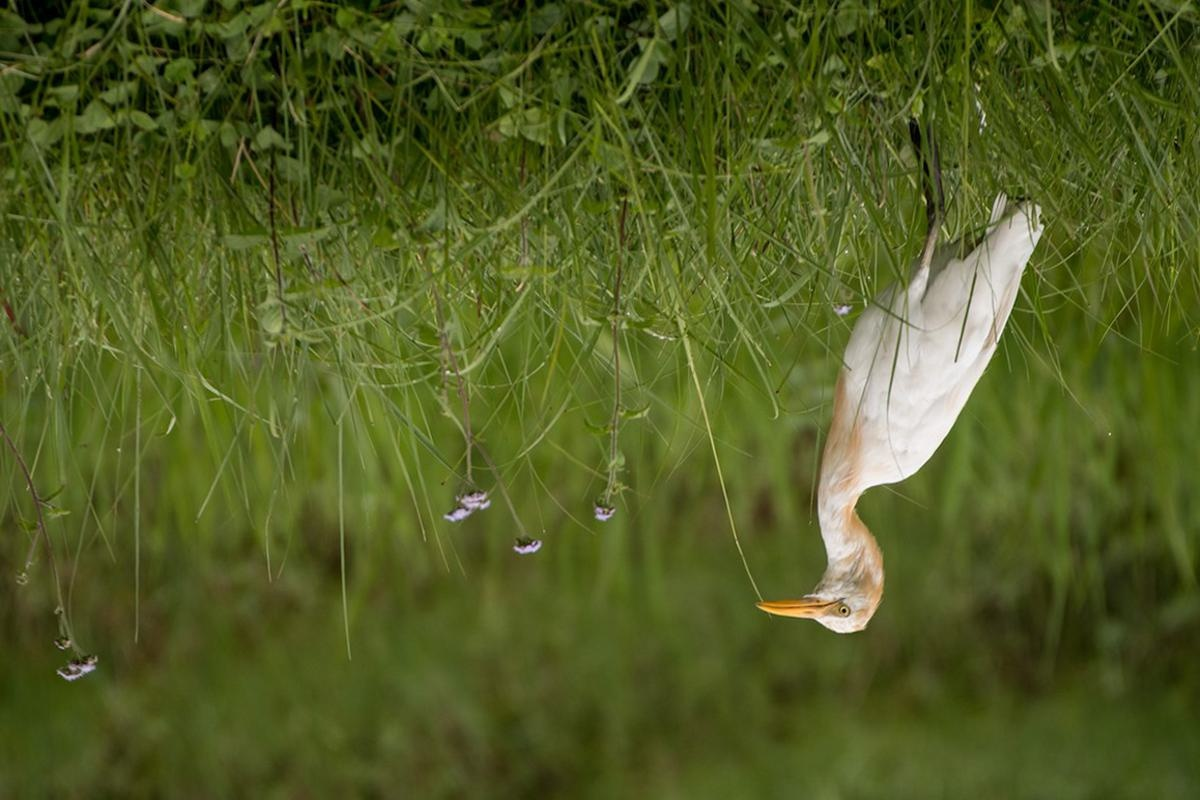egret: (742, 175, 1030, 656)
